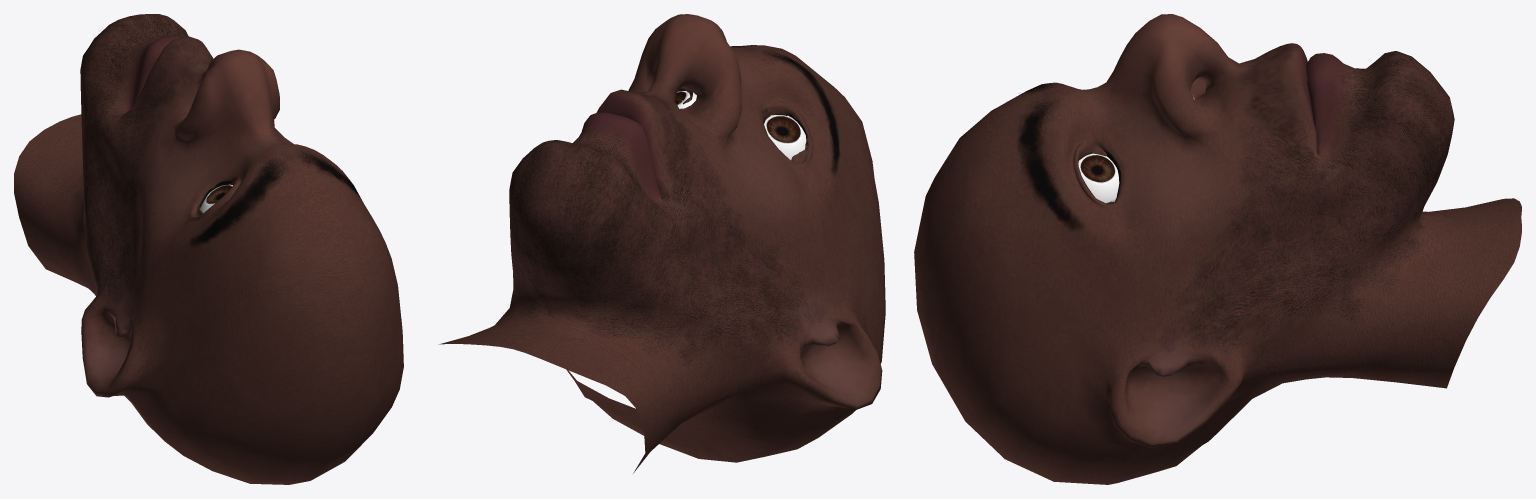
File: finalcharacterNoTangents.gltf
The picture shows the model from 3 angles, left to right: view 1: azimuth 30°, elevation 25°; view 2: azimuth 150°, elevation 25°; view 3: azimuth 270°, elevation 25°; orthographic projection. The views are drawn at different scales.
Visible parts, largest first — view 1: Man; view 2: Man; view 3: Man.
Part boxes in pixels (bbox=[...]): Man: bbox=[14, 14, 403, 484]; Man: bbox=[438, 14, 885, 473]; Man: bbox=[914, 14, 1521, 484].
Size of the model in its own units: 1.38 by 1.76 by 2.13.
1 material, 1 textured.
